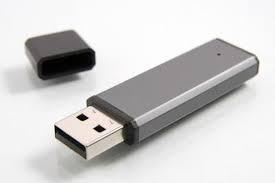Flash-drive: (37, 24, 269, 170)
